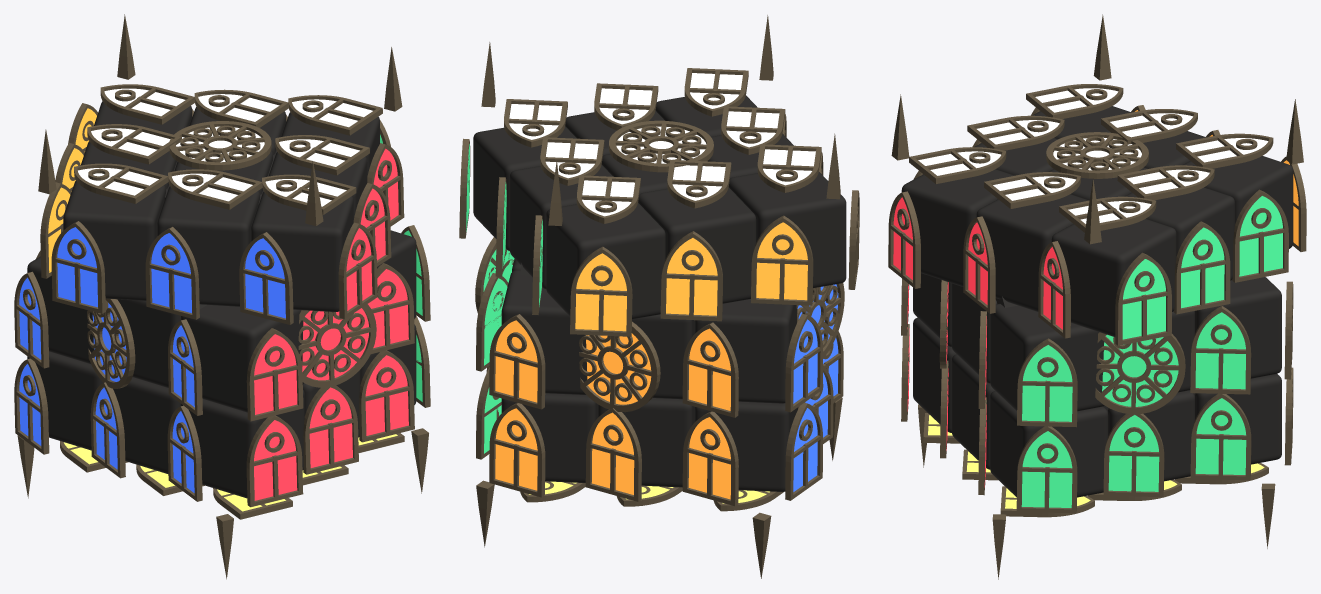
File: rubik-gotik.glb
The picture shows the model from 3 angles, left to right: view 1: azimuth 30°, elevation 25°; view 2: azimuth 150°, elevation 25°; view 3: azimuth 270°, elevation 25°; orthographic projection. The views are drawn at different scales.
Visible parts, largest first — view 1: Cubie_-1_-1_1, Cubie_-1_1_1, Cubie_-1_0_1, Cubie_-1_-1_0, Cubie_-1_-1_-1, Cubie_-1_1_-1, Cubie_-1_0_-1, Islik_Top_0_0_1, Islik_Front_0_-1_0, Cubie_-1_0_0, Islik_Left_-1_0_0, Cubie_-1_1_0 (+71 smaller); view 2: Cubie_1_1_1, Cubie_-1_1_1, Cubie_0_1_1, Cubie_-1_1_0, Cubie_-1_1_-1, Cubie_1_1_0, Cubie_1_1_-1, Cubie_0_1_-1, Cubie_1_-1_1, Islik_Back_0_1_0, Cubie_1_0_1, Islik_Top_0_0_1 (+64 smaller); view 3: Cubie_1_-1_1, Cubie_1_-1_0, Cubie_0_-1_1, Cubie_-1_-1_1, Cubie_1_-1_-1, Cubie_1_1_0, Islik_Right_1_0_0, Islik_Top_0_0_1, Cubie_1_1_1, Cubie_1_0_1, Cubie_1_1_-1, Cubie_1_0_-1 (+66 smaller).
Part boxes in pixels (x1=…): Cubie_-1_-1_1: x1=251, y1=192, x2=353, y2=311; Cubie_-1_1_1: x1=63, y1=181, x2=165, y2=300; Cubie_-1_0_1: x1=157, y1=186, x2=259, y2=306; Cubie_-1_-1_0: x1=181, y1=305, x2=303, y2=412; Cubie_-1_-1_-1: x1=180, y1=390, x2=304, y2=498; Cubie_-1_1_-1: x1=27, y1=351, x2=102, y2=450; Cubie_-1_0_-1: x1=113, y1=377, x2=180, y2=473; Islik_Top_0_0_1: x1=169, y1=121, x2=271, y2=170; Islik_Front_0_-1_0: x1=298, y1=304, x2=376, y2=387; Cubie_-1_0_0: x1=117, y1=299, x2=180, y2=387; Islik_Left_-1_0_0: x1=87, y1=298, x2=135, y2=388; Cubie_-1_1_0: x1=27, y1=256, x2=93, y2=363; Cubie_1_1_1: x1=546, y1=203, x2=665, y2=319; Cubie_-1_1_1: x1=728, y1=172, x2=846, y2=288; Cubie_0_1_1: x1=638, y1=187, x2=756, y2=303; Cubie_-1_1_0: x1=695, y1=299, x2=797, y2=403; Cubie_-1_1_-1: x1=695, y1=401, x2=797, y2=491; Cubie_1_1_0: x1=501, y1=270, x2=587, y2=394; Cubie_1_1_-1: x1=501, y1=393, x2=598, y2=482; Cubie_0_1_-1: x1=598, y1=398, x2=694, y2=487; Cubie_1_-1_1: x1=473, y1=126, x2=576, y2=250; Islik_Back_0_1_0: x1=579, y1=321, x2=660, y2=412; Cubie_1_0_1: x1=509, y1=165, x2=612, y2=288; Islik_Top_0_0_1: x1=608, y1=120, x2=713, y2=172; Cubie_1_-1_1: x1=1051, y1=219, x2=1176, y2=336; Cubie_1_-1_0: x1=990, y1=304, x2=1104, y2=411; Cubie_0_-1_1: x1=976, y1=194, x2=1088, y2=311; Cubie_-1_-1_1: x1=901, y1=169, x2=1014, y2=286; Cubie_1_-1_-1: x1=990, y1=391, x2=1108, y2=497; Cubie_1_1_0: x1=1195, y1=277, x2=1281, y2=378; Islik_Right_1_0_0: x1=1095, y1=332, x2=1185, y2=414; Islik_Top_0_0_1: x1=1046, y1=132, x2=1148, y2=178; Cubie_1_1_1: x1=1182, y1=156, x2=1293, y2=248; Cubie_1_0_1: x1=1124, y1=187, x2=1234, y2=280; Cubie_1_1_-1: x1=1195, y1=374, x2=1281, y2=464; Cubie_1_0_-1: x1=1108, y1=390, x2=1194, y2=481.
Bounding box in the file's own units: 0.0838 × 0.0912 × 0.0836.
